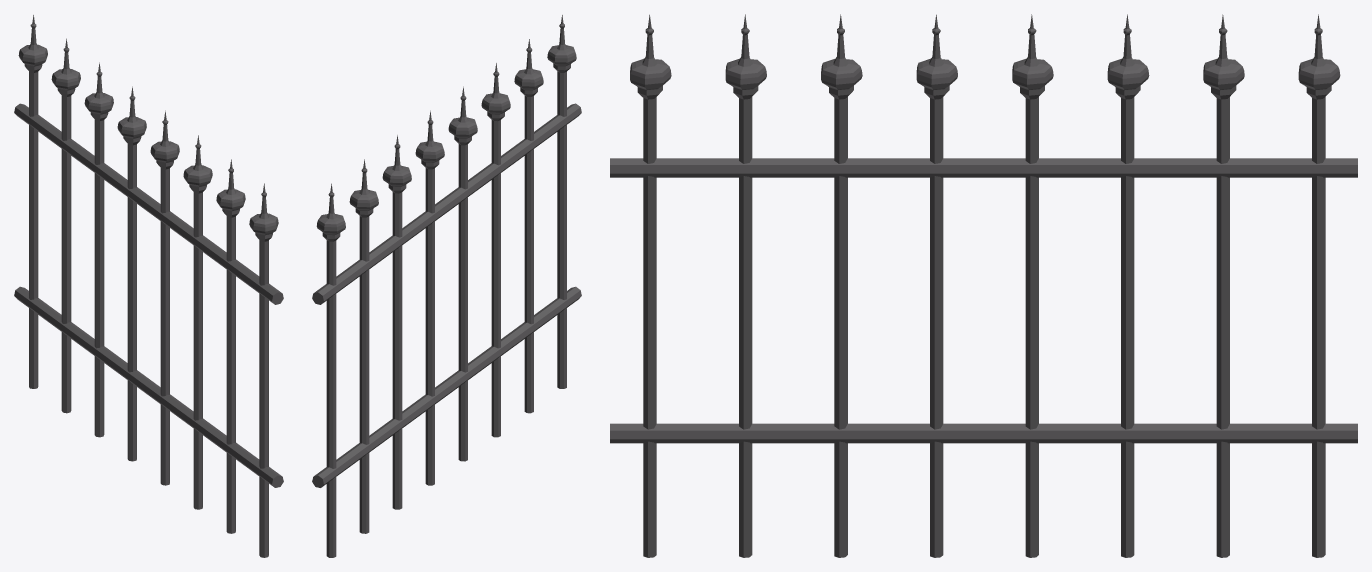
Rendered from MetalFence.fbx.
The picture shows the model from 3 angles, left to right: view 1: azimuth 30°, elevation 25°; view 2: azimuth 150°, elevation 25°; view 3: azimuth 270°, elevation 25°; orthographic projection. The views are drawn at different scales.
Parts seen in each view (by area): view 1: MetalFence; view 2: MetalFence; view 3: MetalFence.
Boxes of the visible parts, <box> form: MetalFence: <box>14,15,283,557</box>; MetalFence: <box>312,15,581,557</box>; MetalFence: <box>610,14,1357,557</box>.
Bounding box in the file's own units: 16.67 × 233 × 293.
